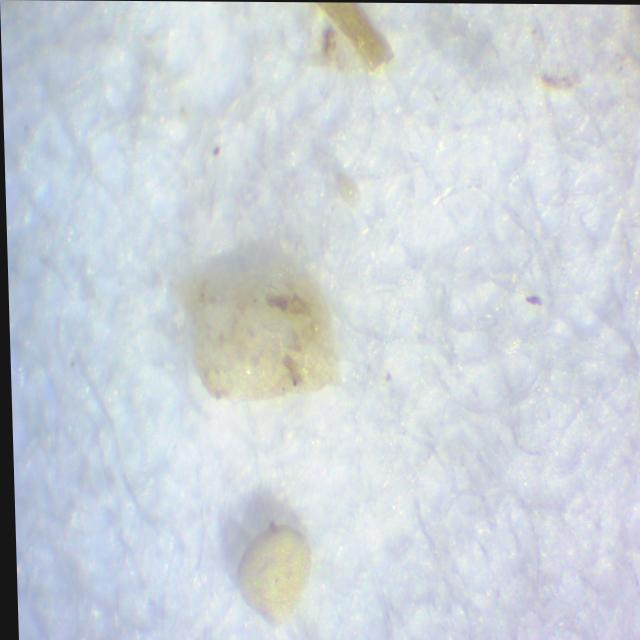microplastic: (179, 250, 343, 401)
